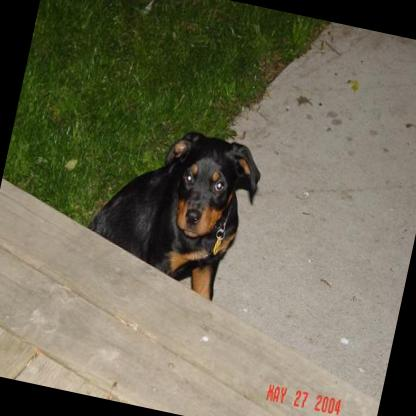Rottweiler: (76, 111, 266, 304)
